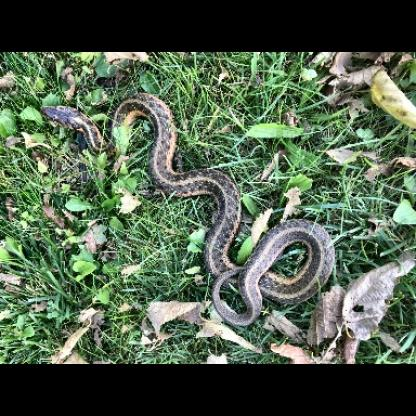Snake: (35, 89, 336, 328)
